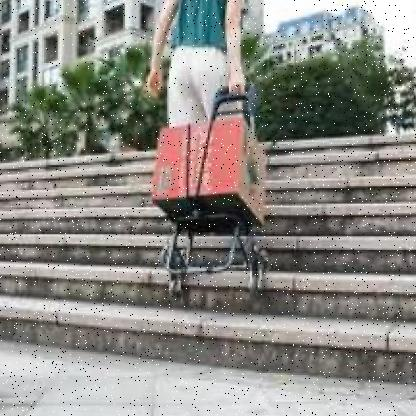stair_up: (25, 192, 323, 364)
